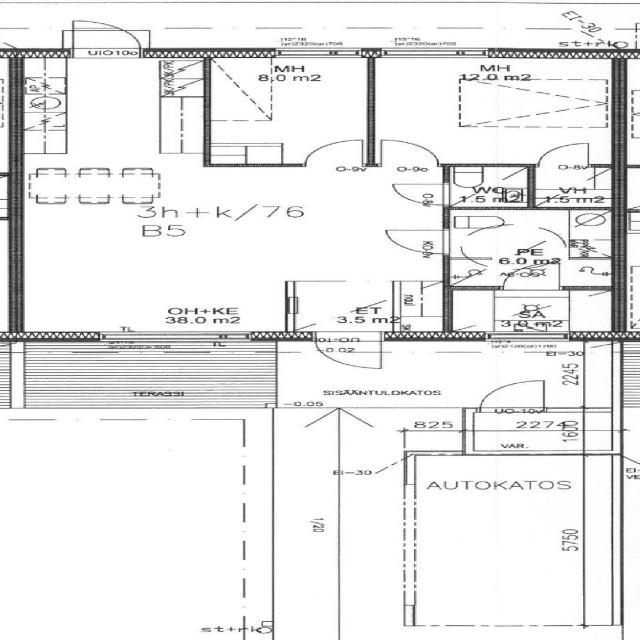door: (64, 19, 144, 57), (314, 334, 389, 372), (478, 376, 552, 412), (371, 136, 448, 169), (377, 226, 454, 256), (299, 136, 371, 168), (495, 265, 564, 293), (386, 180, 454, 206), (532, 141, 597, 168)
window: (103, 329, 261, 343), (378, 46, 482, 59), (484, 331, 574, 344), (271, 47, 363, 59), (613, 263, 636, 295)
zone: (20, 167, 453, 334), (368, 58, 617, 166), (13, 55, 206, 167), (200, 55, 374, 166), (443, 208, 617, 288), (445, 289, 622, 335), (462, 408, 614, 455), (530, 164, 617, 208), (444, 165, 531, 208)
